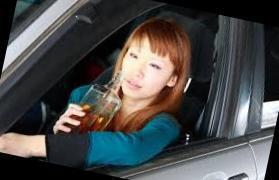Drunk: (127, 40, 162, 97)
